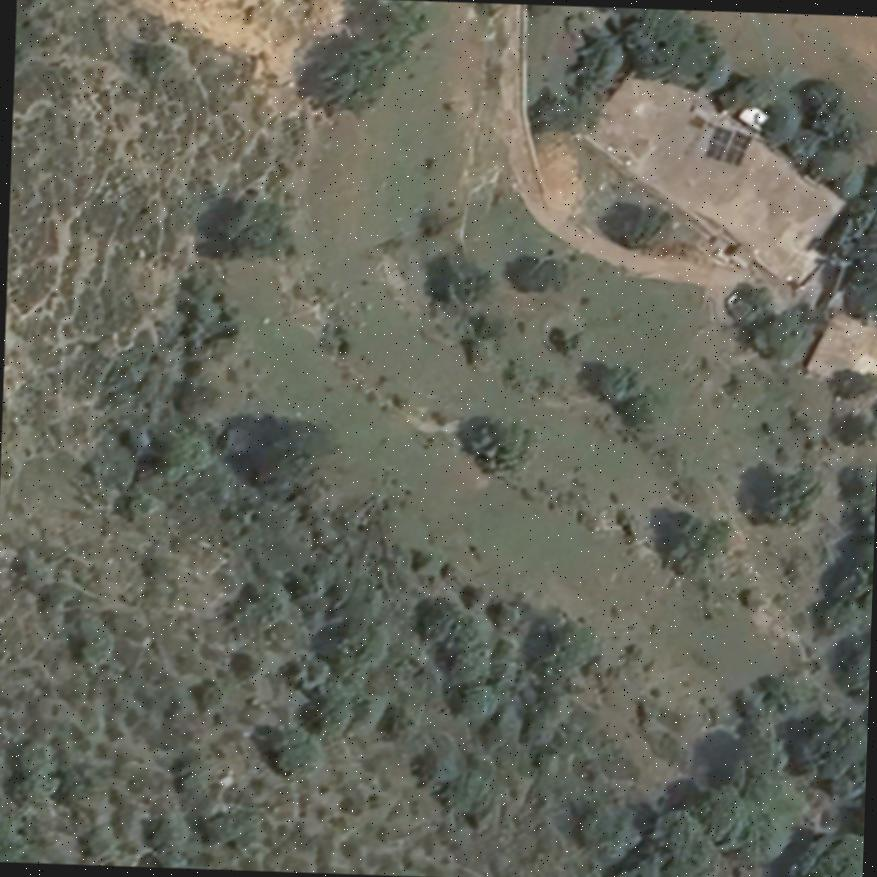Solarpanel: (703, 124, 753, 166)
